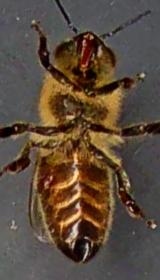varroa_mite: (29, 160, 62, 205)
